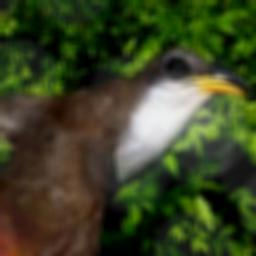Cuckoo: (0, 46, 252, 256)
